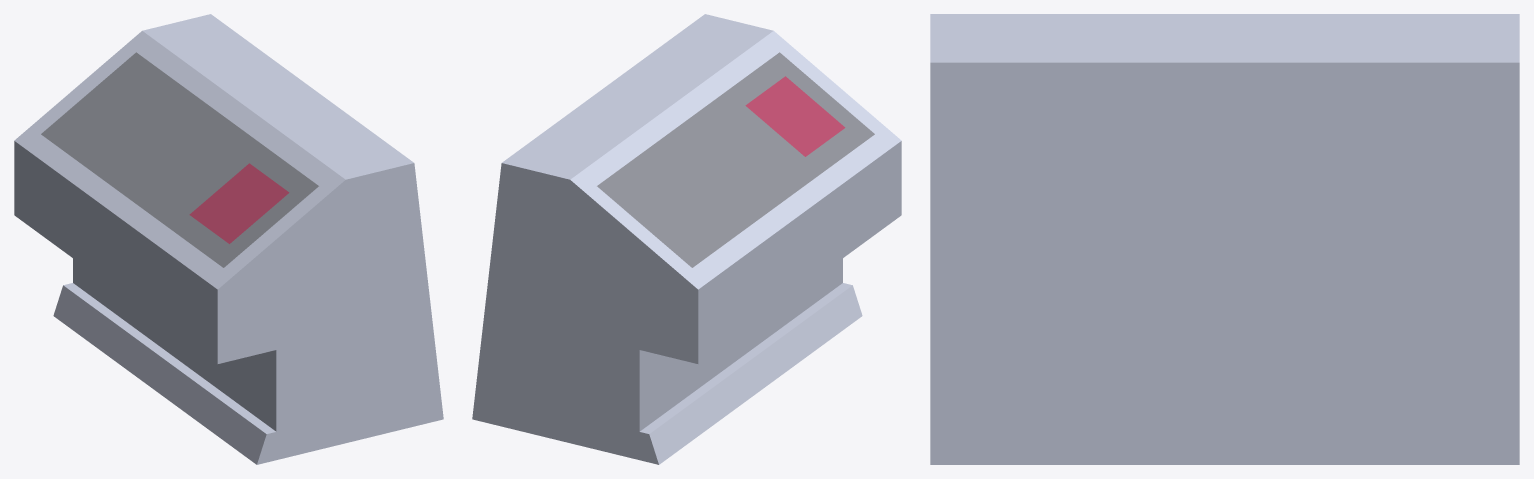
3 views of the same model, side by side, from view 1: azimuth 30°, elevation 25°; view 2: azimuth 150°, elevation 25°; view 3: azimuth 270°, elevation 25° (orthographic). The views are drawn at different scales.
Visible parts, largest first — view 1: object_053; view 2: object_053; view 3: object_053.
Part boxes in pixels (left/top/right/bottom): object_053: left=14, top=14, right=443, bottom=464; object_053: left=472, top=14, right=901, bottom=464; object_053: left=930, top=14, right=1519, bottom=464.
Size of the model in its own units: 2.98 by 3.32 by 4.65.
